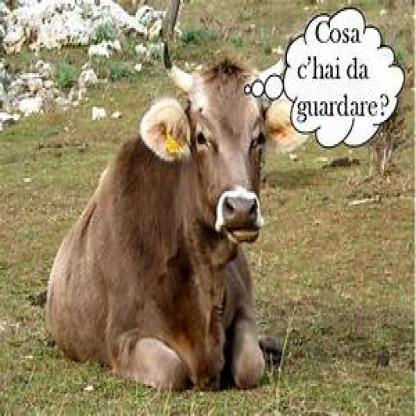cow: (79, 52, 293, 371)
